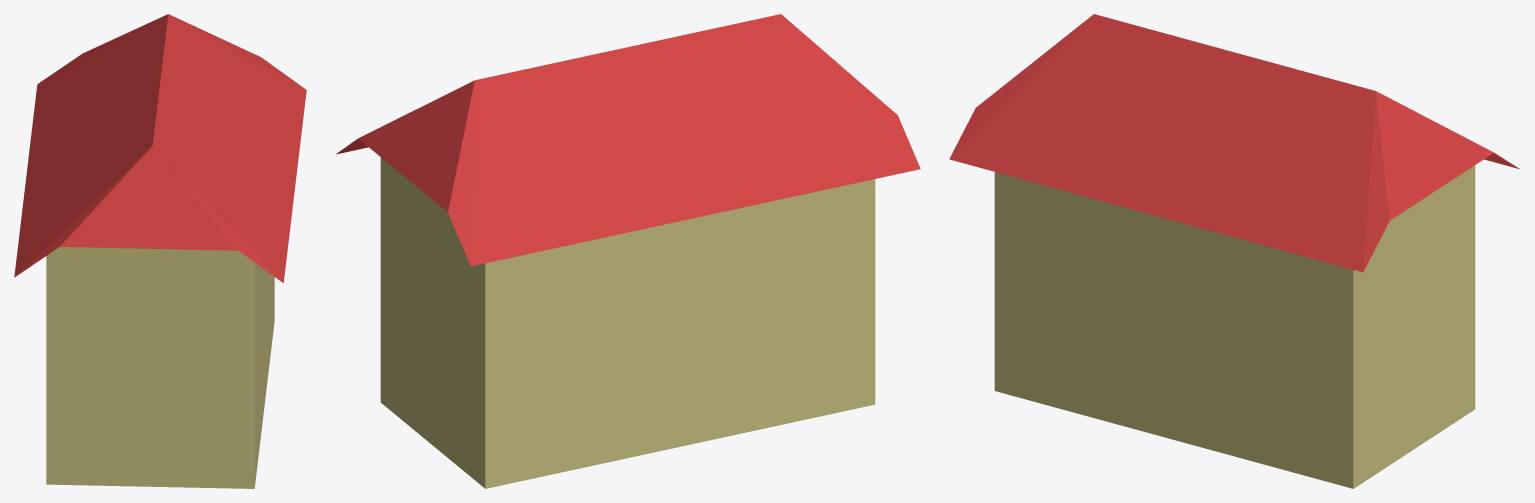
3 renders of one model, left to right at view 1: azimuth 30°, elevation 25°; view 2: azimuth 150°, elevation 25°; view 3: azimuth 270°, elevation 25°, orthographic. The views are drawn at different scales.
Visible parts, largest first — view 1: group_5, group_3, group_4; view 2: group_5, group_3, group_4; view 3: group_5, group_3, group_4.
Part boxes in pixels (bbox=[...]): group_5: bbox=[46, 247, 274, 488]; group_3: bbox=[14, 14, 306, 282]; group_4: bbox=[15, 46, 305, 282]; group_5: bbox=[380, 157, 875, 488]; group_3: bbox=[336, 14, 920, 265]; group_4: bbox=[336, 73, 920, 266]; group_5: bbox=[994, 165, 1475, 488]; group_3: bbox=[949, 14, 1519, 272]; group_4: bbox=[949, 86, 1513, 271].
Bounding box in the file's own units: 11.66 × 13.03 × 8.75.
